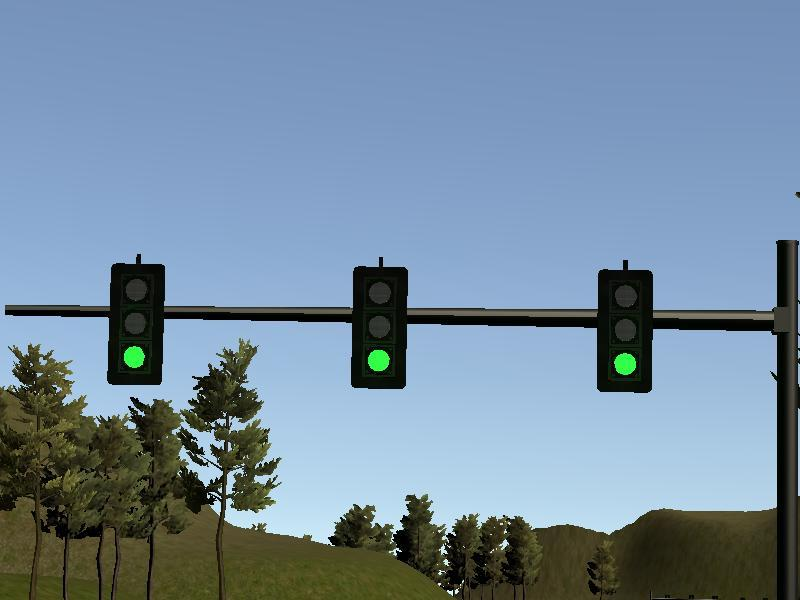Green: (110, 264, 162, 384), (599, 272, 651, 392), (356, 268, 405, 388)
